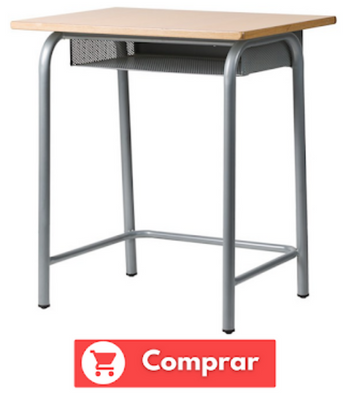m01: (10, 5, 337, 335)
